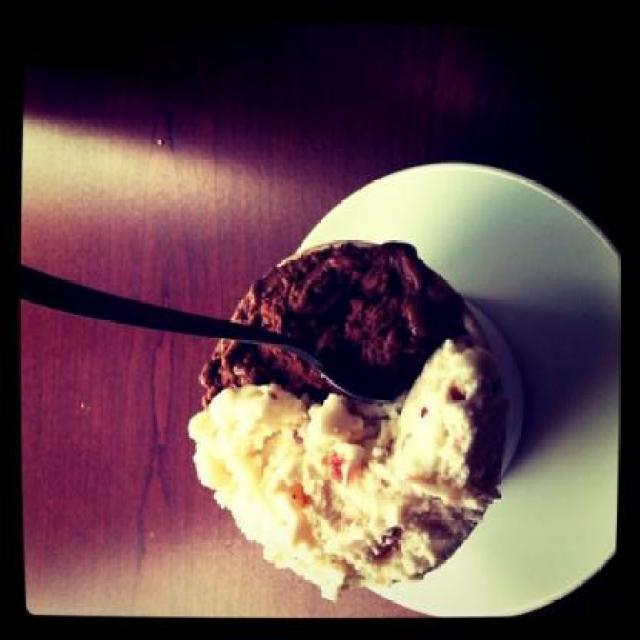Ice cream: (195, 238, 548, 606)
